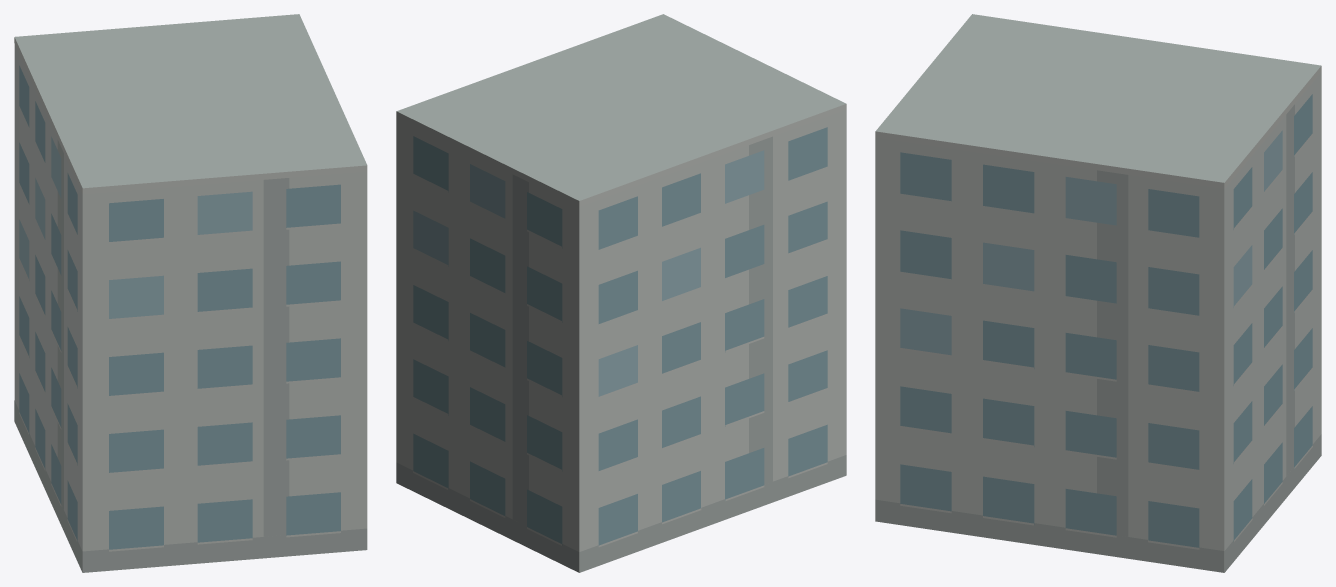
The model's file is residential-1e5c9eec-415a-4162-a97a-04f11e456a2e.glb.
3 renders of one model, left to right at view 1: azimuth 30°, elevation 25°; view 2: azimuth 150°, elevation 25°; view 3: azimuth 270°, elevation 25°, orthographic. The views are drawn at different scales.
Visible parts, largest first — view 1: residential-1e5c9eec-415a-4162-a97a-04f11e456a2e.tmp; view 2: residential-1e5c9eec-415a-4162-a97a-04f11e456a2e.tmp; view 3: residential-1e5c9eec-415a-4162-a97a-04f11e456a2e.tmp.
Part boxes in pixels (x1,y1,x2,y2): residential-1e5c9eec-415a-4162-a97a-04f11e456a2e.tmp: [14, 14, 367, 572]; residential-1e5c9eec-415a-4162-a97a-04f11e456a2e.tmp: [396, 14, 846, 572]; residential-1e5c9eec-415a-4162-a97a-04f11e456a2e.tmp: [875, 14, 1321, 572].
Bounding box in the file's own units: 14.17 × 15.25 × 15.82.
